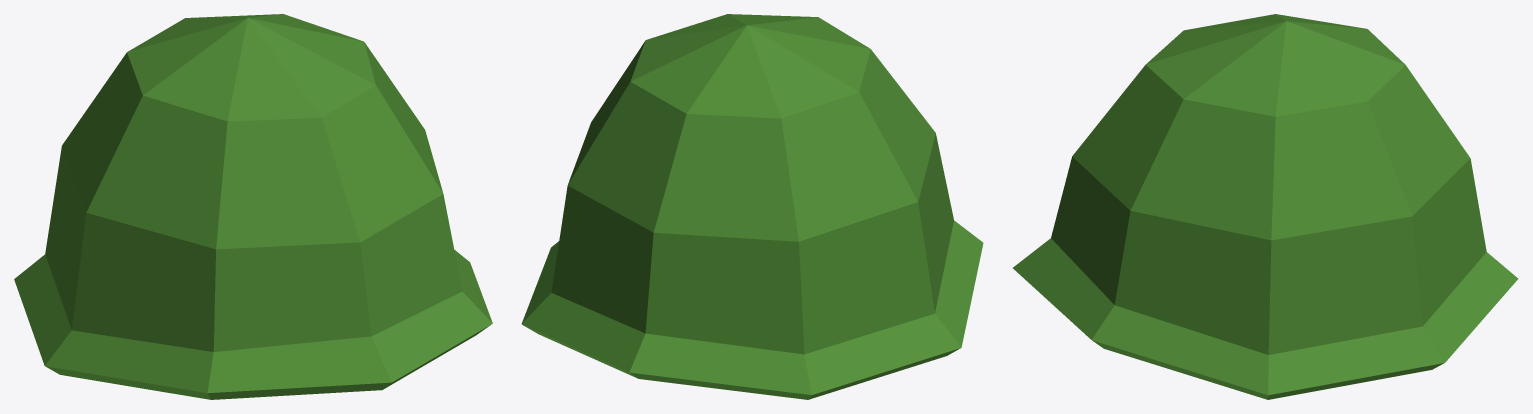
File: ww2_helmet-us.fbx
The picture shows the model from 3 angles, left to right: view 1: azimuth 30°, elevation 25°; view 2: azimuth 150°, elevation 25°; view 3: azimuth 270°, elevation 25°; orthographic projection. The views are drawn at different scales.
Visible parts, largest first — view 1: ww2_helmet_us; view 2: ww2_helmet_us; view 3: ww2_helmet_us.
Part boxes in pixels (left/top/right/bottom): ww2_helmet_us: left=14, top=14, right=492, bottom=399; ww2_helmet_us: left=521, top=14, right=983, bottom=399; ww2_helmet_us: left=1013, top=14, right=1518, bottom=399.
Size of the model in its own units: 185 by 125 by 200.
